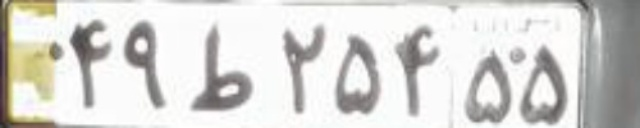2: (280, 21, 328, 114)
4: (393, 23, 443, 115), (67, 19, 113, 108)
5: (332, 32, 385, 114), (519, 42, 567, 123), (463, 42, 511, 122)
9: (123, 20, 165, 108)
taa: (188, 25, 254, 111)
